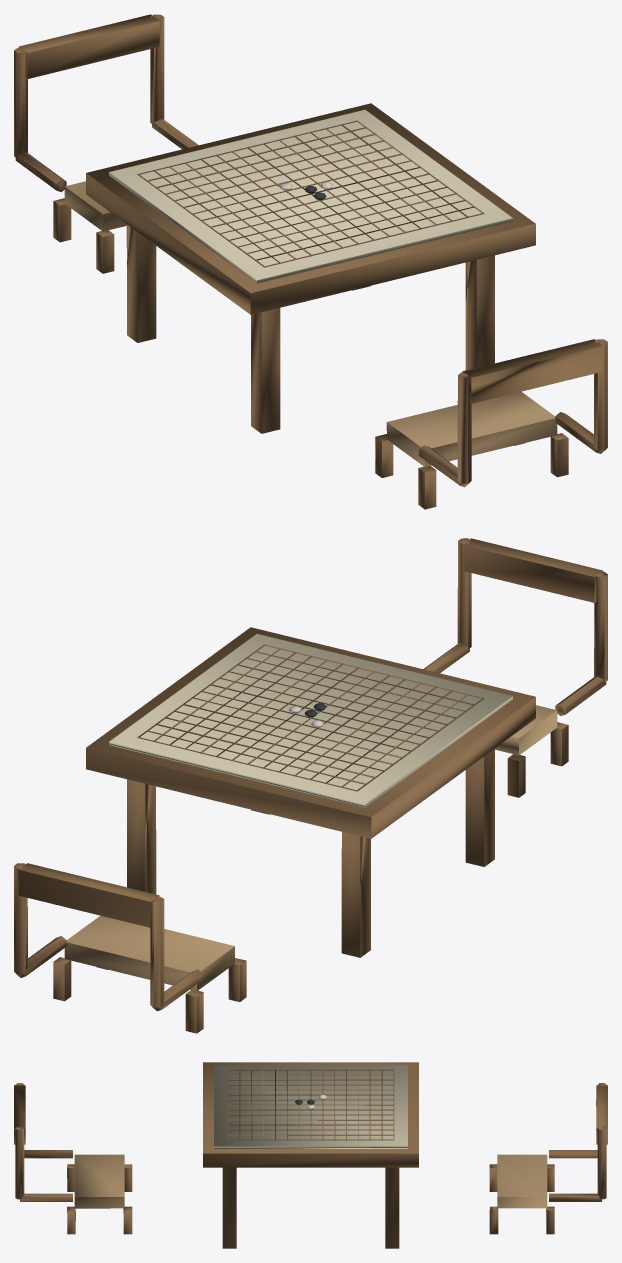
File: table_omok_low.glb
3 renders of one model, top to bottom at view 1: azimuth 30°, elevation 25°; view 2: azimuth 150°, elevation 25°; view 3: azimuth 270°, elevation 25°, orthographic. The views are drawn at different scales.
Bounding box in the file's own units: 1.38 × 0.7825 × 3.8.
